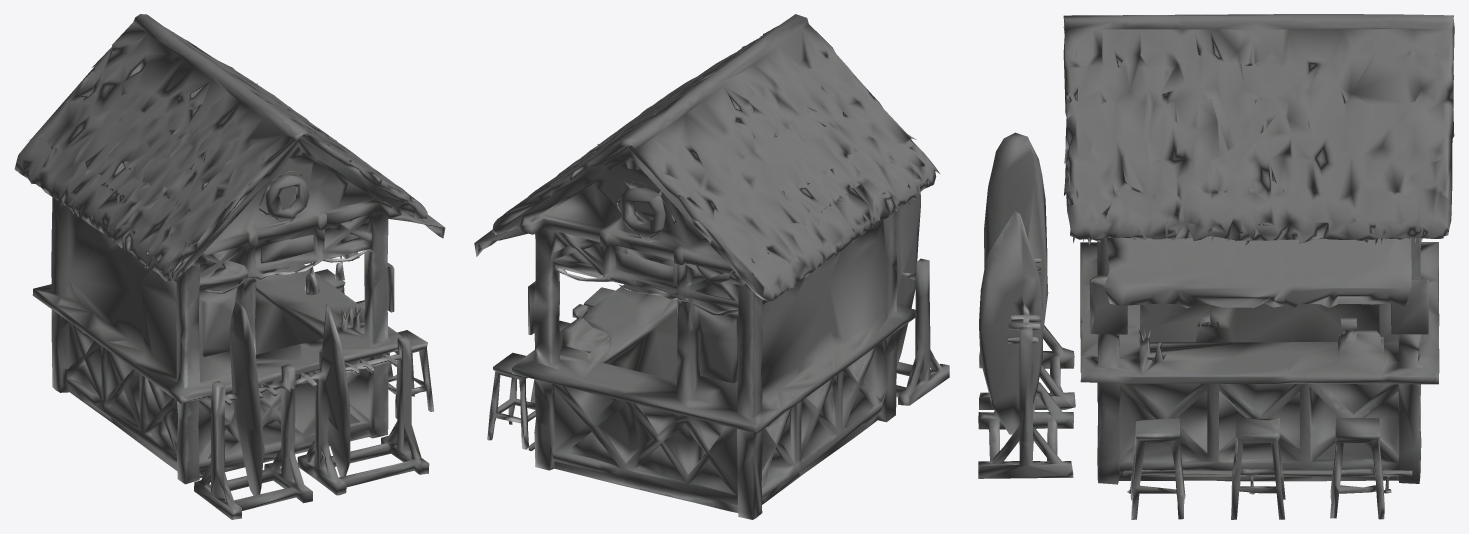
File: prop_surf_tiki_shack.glb
3 renders of one model, left to right at view 1: azimuth 30°, elevation 25°; view 2: azimuth 150°, elevation 25°; view 3: azimuth 270°, elevation 25°, orthographic. The views are drawn at different scales.
Parts seen in each view (by area): view 1: tripo_node_e00f4c0a-4d4f-4edb-8e7e-9607ba8e40db; view 2: tripo_node_e00f4c0a-4d4f-4edb-8e7e-9607ba8e40db; view 3: tripo_node_e00f4c0a-4d4f-4edb-8e7e-9607ba8e40db.
Boxes of the visible parts, box(x1,y1,x2,y2) form: tripo_node_e00f4c0a-4d4f-4edb-8e7e-9607ba8e40db: box(14, 14, 445, 519); tripo_node_e00f4c0a-4d4f-4edb-8e7e-9607ba8e40db: box(474, 14, 949, 519); tripo_node_e00f4c0a-4d4f-4edb-8e7e-9607ba8e40db: box(978, 14, 1454, 519).
Bounding box in the file's own units: 0.8616 × 0.9569 × 0.9974.
Materials: 1 (1 with a texture image).
